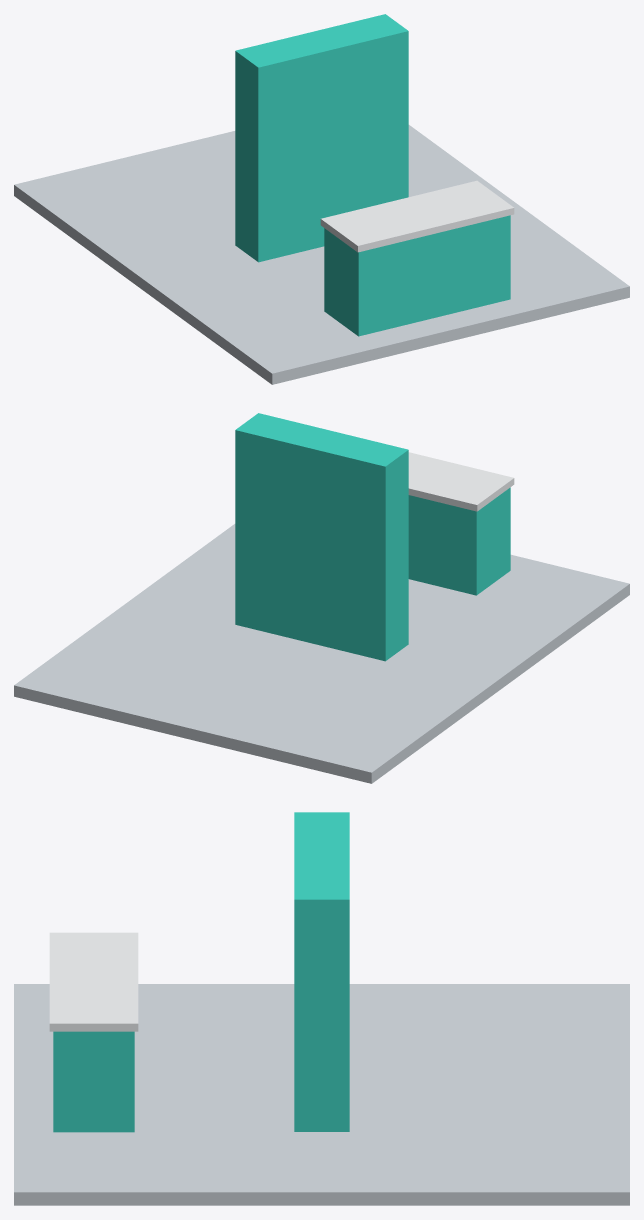
The picture shows the model from 3 angles, top to bottom: view 1: azimuth 30°, elevation 25°; view 2: azimuth 150°, elevation 25°; view 3: azimuth 270°, elevation 25°; orthographic projection. The views are drawn at different scales.
Parts seen in each view (by area): view 1: Exhibition Booth Concept; view 2: Exhibition Booth Concept; view 3: Exhibition Booth Concept.
Boxes of the visible parts, x1,y1,x2,y2 form: Exhibition Booth Concept: (14, 14, 629, 384); Exhibition Booth Concept: (14, 413, 629, 783); Exhibition Booth Concept: (14, 812, 629, 1205).
Bounding box in the file's own units: 4 × 2.2 × 5.
